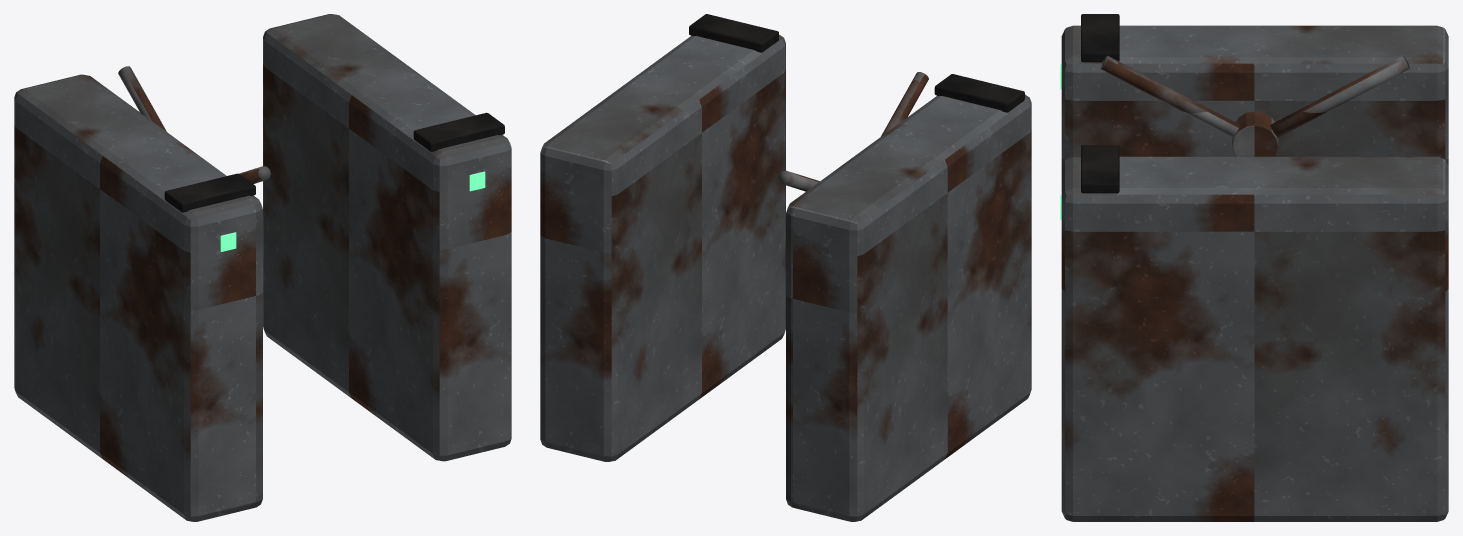
File: R03_ticket_turnstile.glb
The picture shows the model from 3 angles, left to right: view 1: azimuth 30°, elevation 25°; view 2: azimuth 150°, elevation 25°; view 3: azimuth 270°, elevation 25°; orthographic projection. The views are drawn at different scales.
Visible parts, largest first — view 1: R03_ticket_turnstile; view 2: R03_ticket_turnstile; view 3: R03_ticket_turnstile.
Part boxes in pixels (x1,y1,x2,y2): R03_ticket_turnstile: (14,14,511,521); R03_ticket_turnstile: (540,14,1031,521); R03_ticket_turnstile: (1060,14,1448,521).
Bounding box in the file's own units: 1 × 0.9451 × 0.9557.
Materials: 4 (4 with a texture image).
